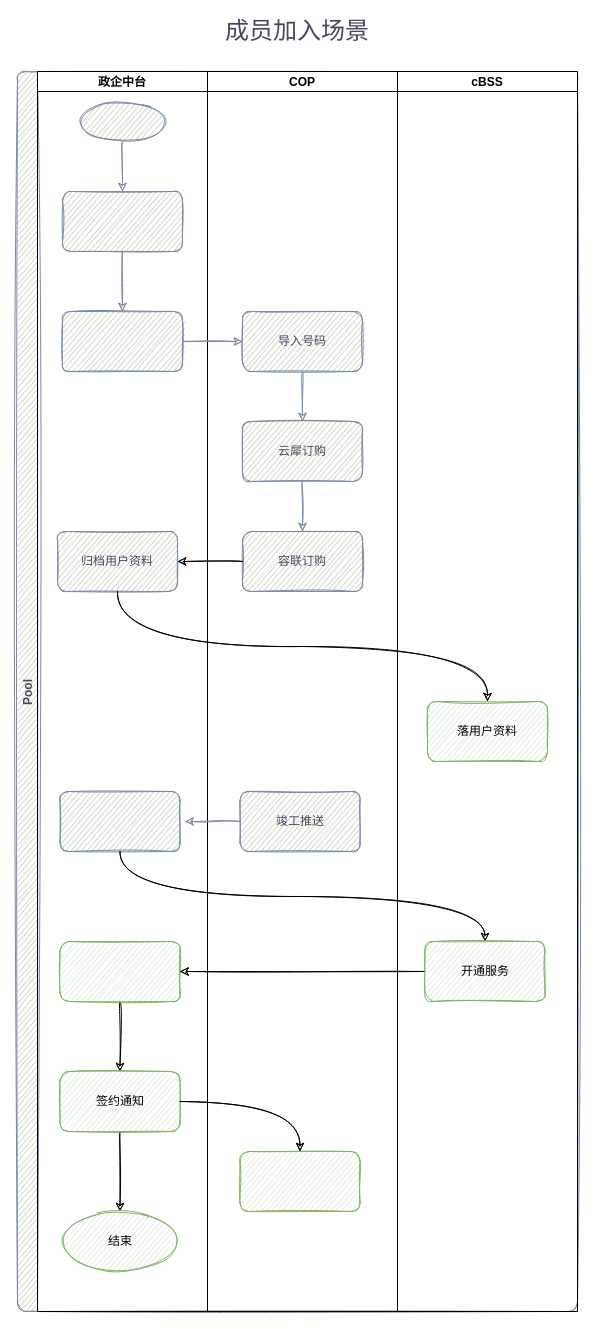
Image size: 595x1329. Some labels were removed from this diagram. Each missing label, with the centre of its shape:
"业务受理" belongs at point 122,221.
"开始" belongs at point 122,121.
"成员加入" belongs at point 122,341.
"接收开通结果" belongs at point 119,971.
"接收竣工反馈" belongs at point 119,821.
"退订开通失败号码" belongs at point 299,1181.
